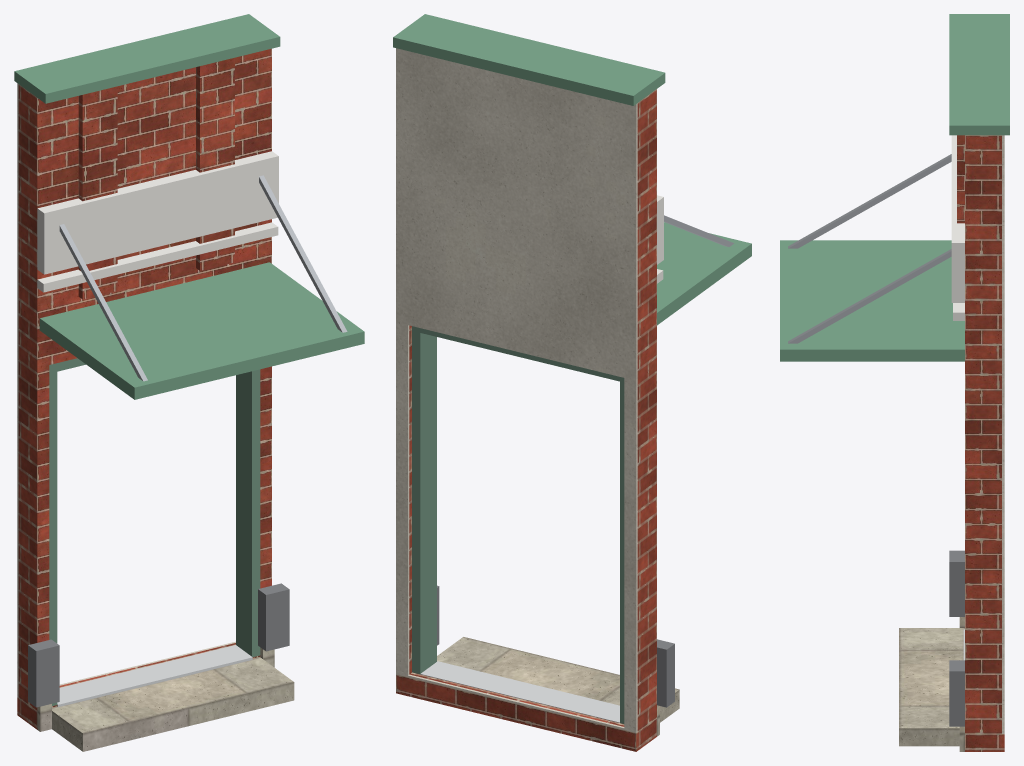
File: wall_dock_door.glb
3 renders of one model, left to right at view 1: azimuth 30°, elevation 25°; view 2: azimuth 150°, elevation 25°; view 3: azimuth 270°, elevation 25°, orthographic. The views are drawn at different scales.
Visible parts, largest first — view 1: wall_dock_door_brick, wall_dock_door_coping, wall_dock_door_trim, wall_dock_door_stone, wall_dock_door_frame2, wall_dock_door_dark, wall_dock_door_metal, wall_dock_door_steel, wall_dock_door_plaster; view 2: wall_dock_door_plaster, wall_dock_door_brick, wall_dock_door_coping, wall_dock_door_frame2, wall_dock_door_stone, wall_dock_door_metal, wall_dock_door_dark; view 3: wall_dock_door_coping, wall_dock_door_brick, wall_dock_door_stone, wall_dock_door_steel, wall_dock_door_dark, wall_dock_door_trim, wall_dock_door_plaster.
Boxes of the visible parts, box(x1,y1,x2,y2) form: wall_dock_door_brick: box(17, 48, 271, 729); wall_dock_door_coping: box(14, 14, 364, 399); wall_dock_door_trim: box(37, 151, 278, 292); wall_dock_door_stone: box(37, 647, 294, 751); wall_dock_door_frame2: box(49, 358, 260, 705); wall_dock_door_dark: box(28, 583, 289, 707); wall_dock_door_metal: box(57, 645, 252, 707); wall_dock_door_steel: box(59, 175, 347, 381); wall_dock_door_plaster: box(17, 83, 235, 697); wall_dock_door_plaster: box(396, 48, 637, 732); wall_dock_door_brick: box(396, 89, 656, 751); wall_dock_door_coping: box(393, 14, 751, 325); wall_dock_door_frame2: box(412, 326, 624, 723); wall_dock_door_stone: box(437, 637, 679, 736); wall_dock_door_metal: box(420, 661, 619, 722); wall_dock_door_dark: box(437, 585, 674, 707); wall_dock_door_coping: box(780, 14, 1009, 361); wall_dock_door_brick: box(957, 135, 1004, 751); wall_dock_door_stone: box(899, 617, 964, 751); wall_dock_door_steel: box(788, 154, 951, 343); wall_dock_door_dark: box(949, 550, 964, 726); wall_dock_door_trim: box(951, 135, 964, 320); wall_dock_door_plaster: box(1002, 135, 1004, 733).
Bounding box in the file's own units: 2.16 × 5.23 × 1.74.
9 materials, 3 textured.
